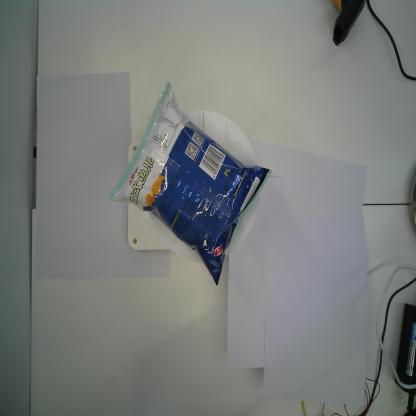Puffed Food: (107, 78, 273, 287)
